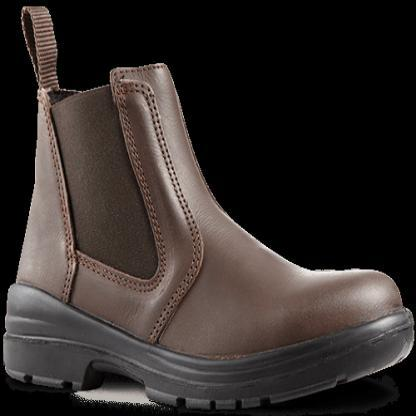bota: (13, 3, 415, 410)
